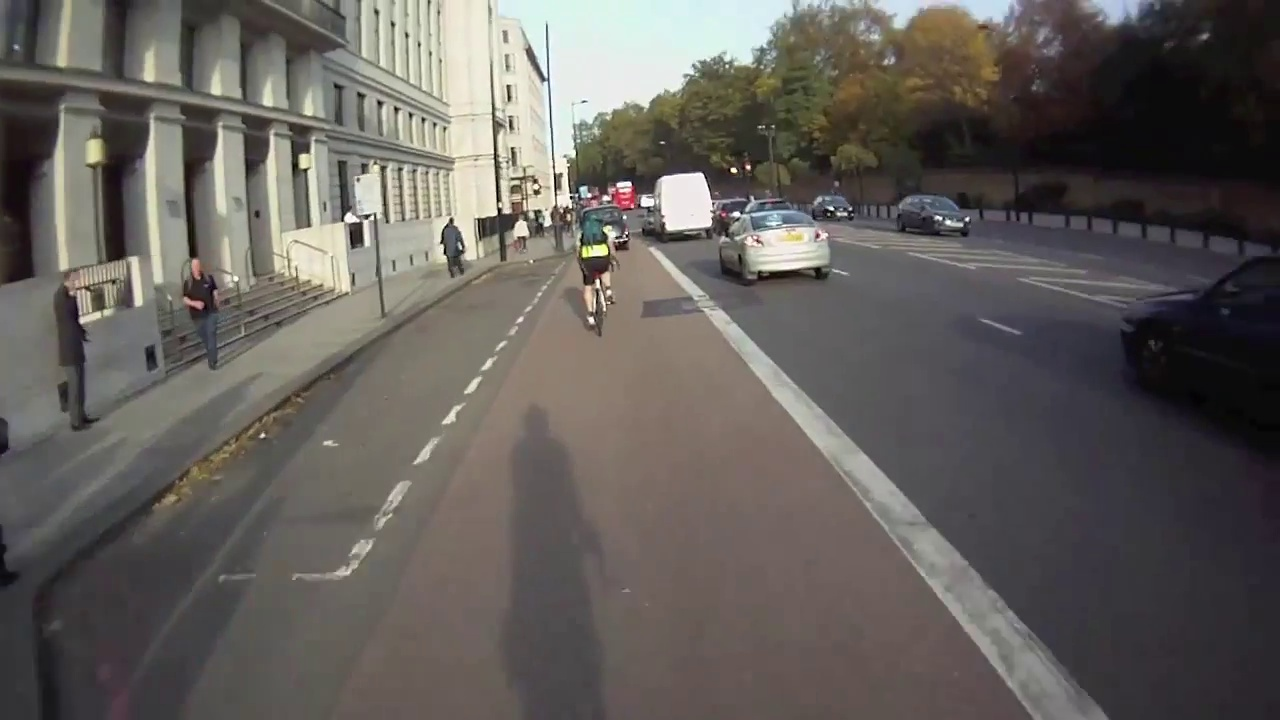cyclist_back: (571, 208, 622, 339)
